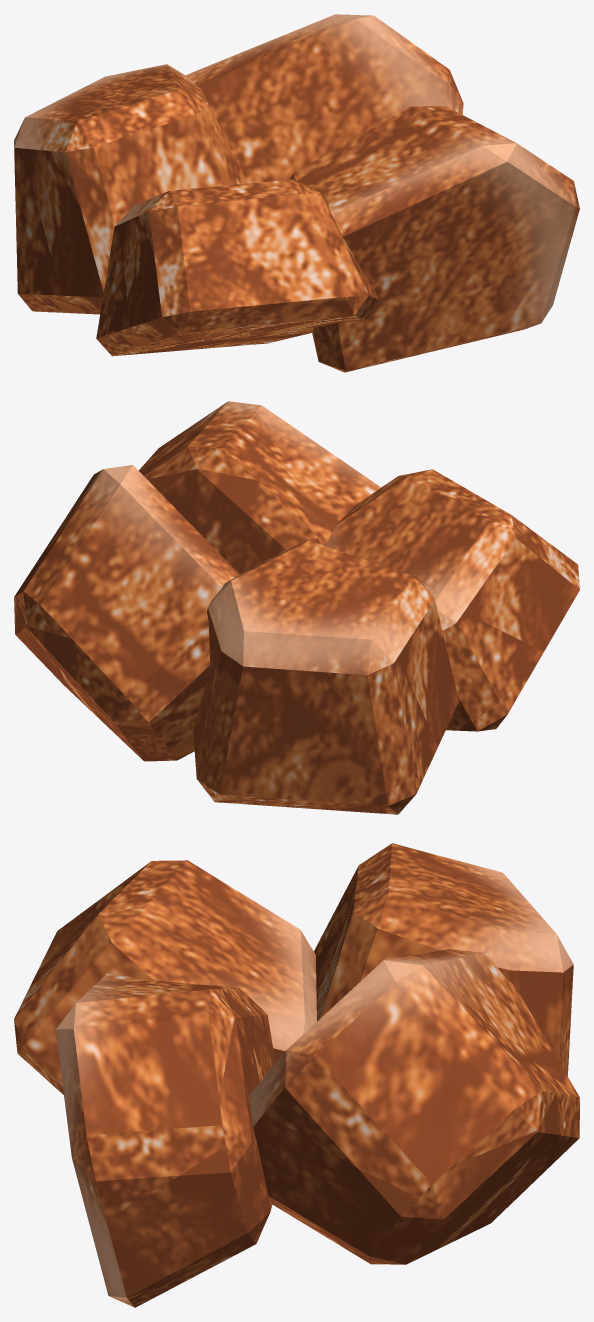
File: static.glb
3 views of the same model, one above another, from view 1: azimuth 30°, elevation 25°; view 2: azimuth 150°, elevation 25°; view 3: azimuth 270°, elevation 25° (orthographic). The views are drawn at different scales.
Parts seen in each view (by area): view 1: Cube_1, Cube_1_0, Cube_1_2_3, Cube_3; view 2: Cube_1_2_3, Cube_3, Cube_1_0, Cube_1; view 3: Cube_3, Cube_1, Cube_1_0, Cube_1_2_3.
Part boxes in pixels (x1,y1,x2,y2): Cube_1: [289, 106, 579, 372]; Cube_1_0: [96, 179, 378, 356]; Cube_1_2_3: [14, 64, 247, 314]; Cube_3: [185, 14, 463, 183]; Cube_1_2_3: [193, 540, 458, 814]; Cube_3: [14, 465, 239, 761]; Cube_1_0: [326, 469, 579, 731]; Cube_1: [138, 401, 380, 574]; Cube_3: [249, 949, 579, 1264]; Cube_1: [55, 973, 275, 1307]; Cube_1_0: [14, 860, 316, 1094]; Cube_1_2_3: [314, 843, 573, 1076].
Bounding box in the file's own units: 0.9517 × 0.5629 × 0.9101.
Materials: 1 (1 with a texture image).
